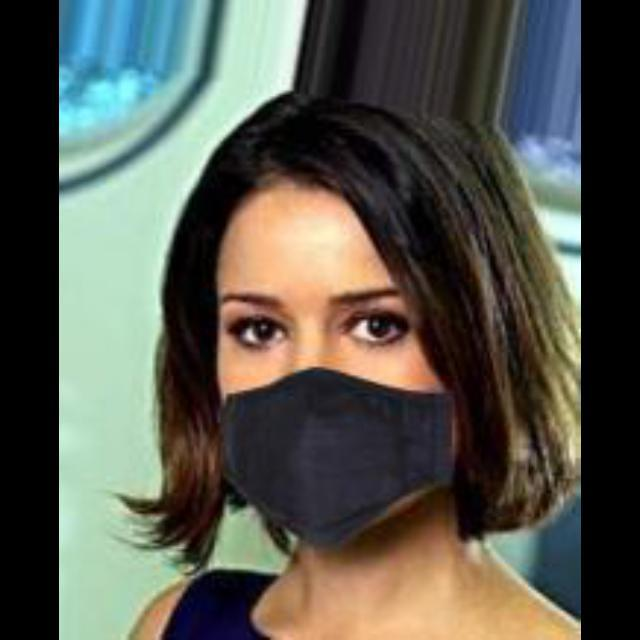suspicion: (198, 105, 516, 633)
